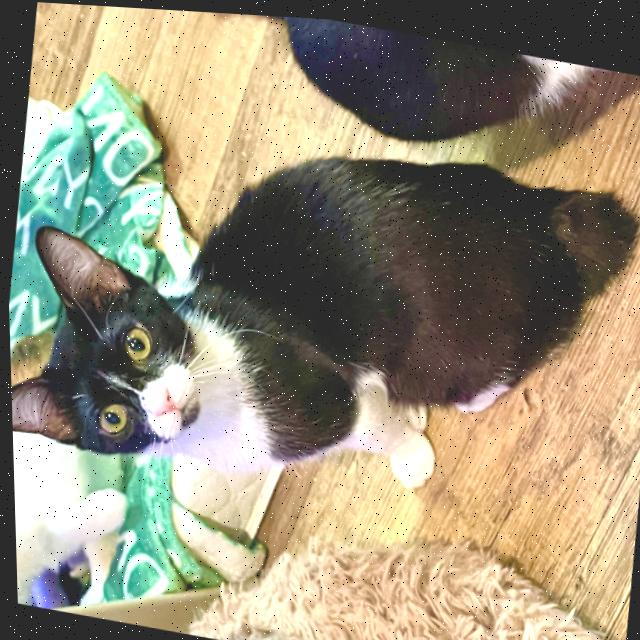American Bobtail: (2, 71, 640, 545)
